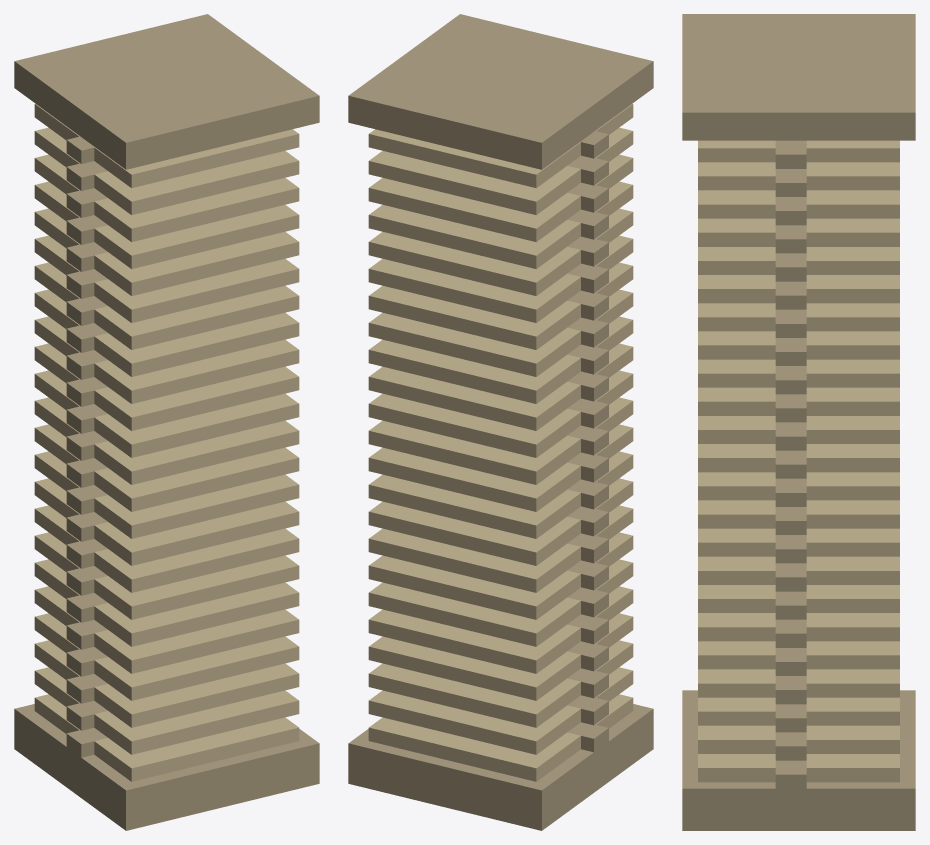
File: columna_arenisca_01.glb
3 renders of one model, left to right at view 1: azimuth 30°, elevation 25°; view 2: azimuth 150°, elevation 25°; view 3: azimuth 270°, elevation 25°, orthographic. The views are drawn at different scales.
Parts seen in each view (by area): view 1: columna_arenisca; view 2: columna_arenisca; view 3: columna_arenisca.
Part boxes in pixels (box(x1,y1,x2,y2)): columna_arenisca: box(14, 14, 319, 830); columna_arenisca: box(348, 14, 653, 830); columna_arenisca: box(682, 14, 915, 830).
Size of the model in its own units: 1 by 3.4 by 1.
